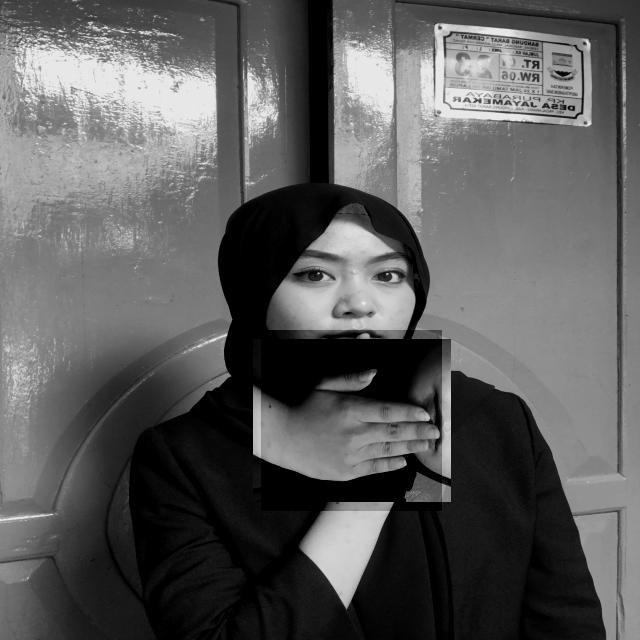ganteng: (261, 330, 442, 511)
